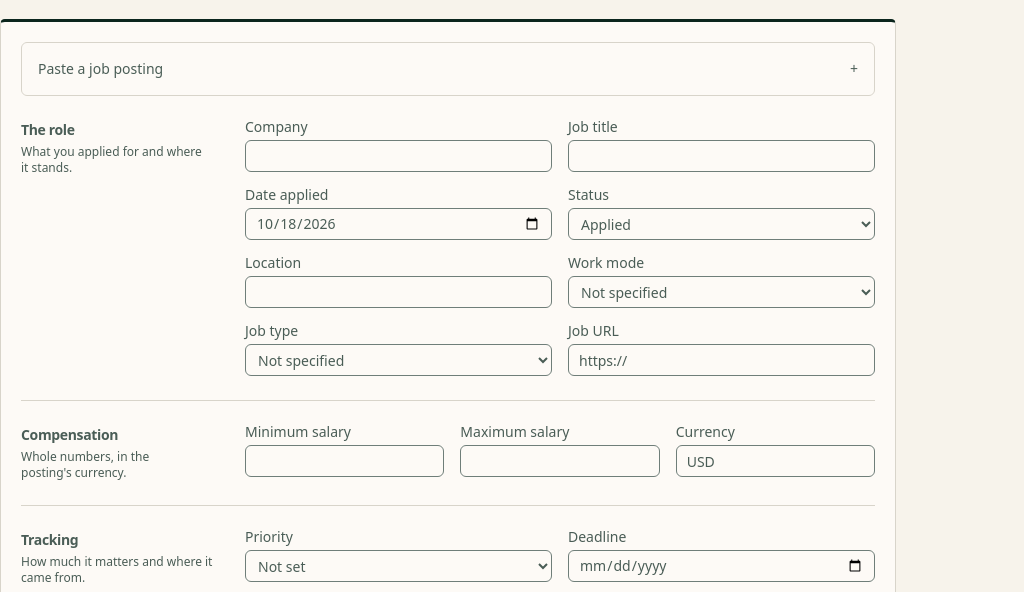
Test case: ApplicationFormPage input guardrails › asks for a currency when a salary is entered
Type "Acme" into the field labelled "Company" at (398, 156), box [245, 140, 552, 172]
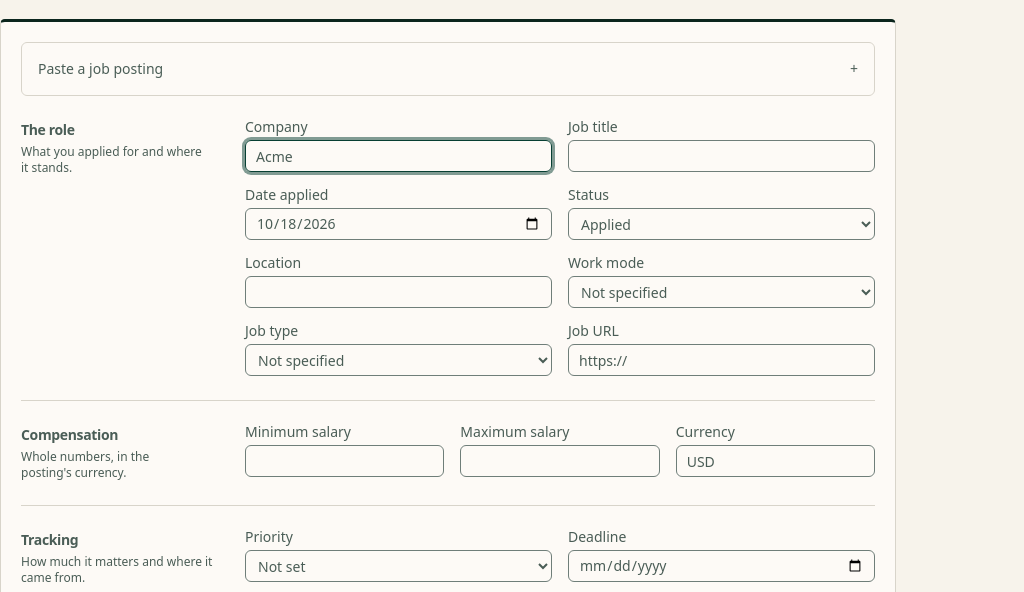
Type "Engineer" into the field labelled "Job title" at (722, 156), box [568, 140, 875, 172]
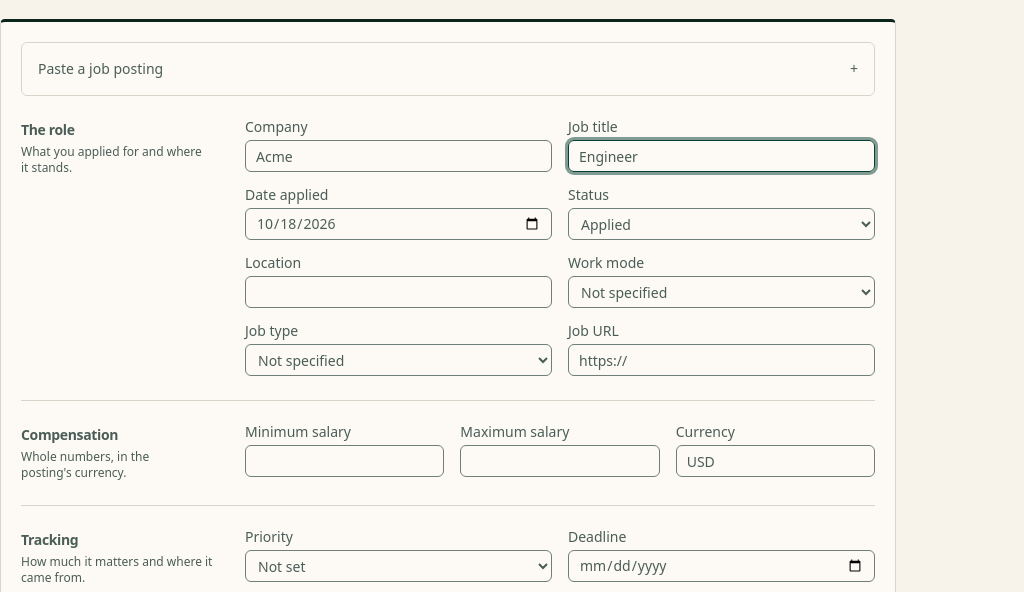
Type "2026-01-05" into the date field labelled "Date applied" at (398, 224), box [245, 208, 552, 240]
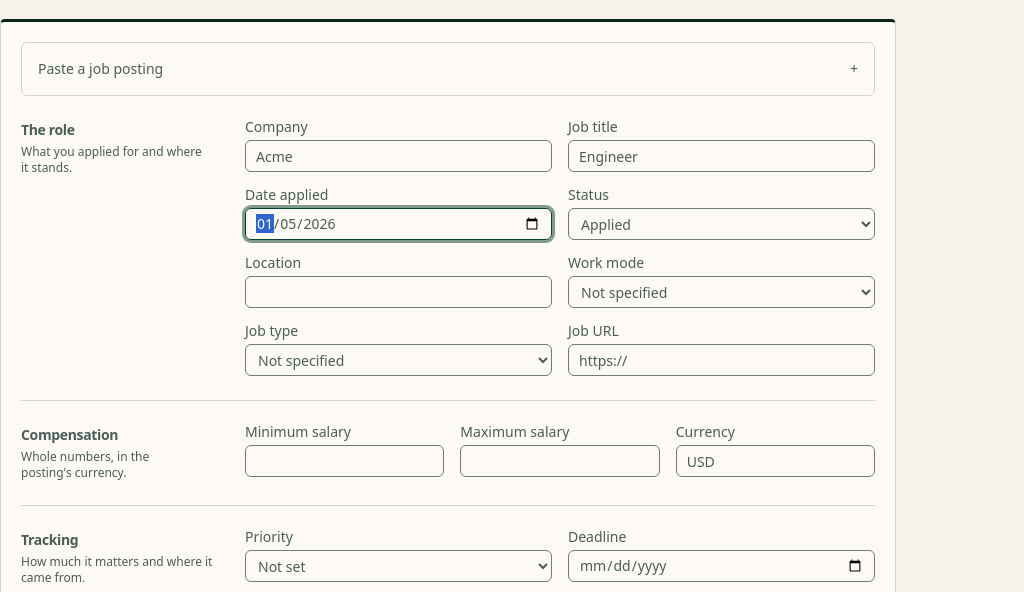
Type "90000" into the field labelled "Minimum salary" at (345, 461), box [245, 445, 444, 477]
(page scrolled)
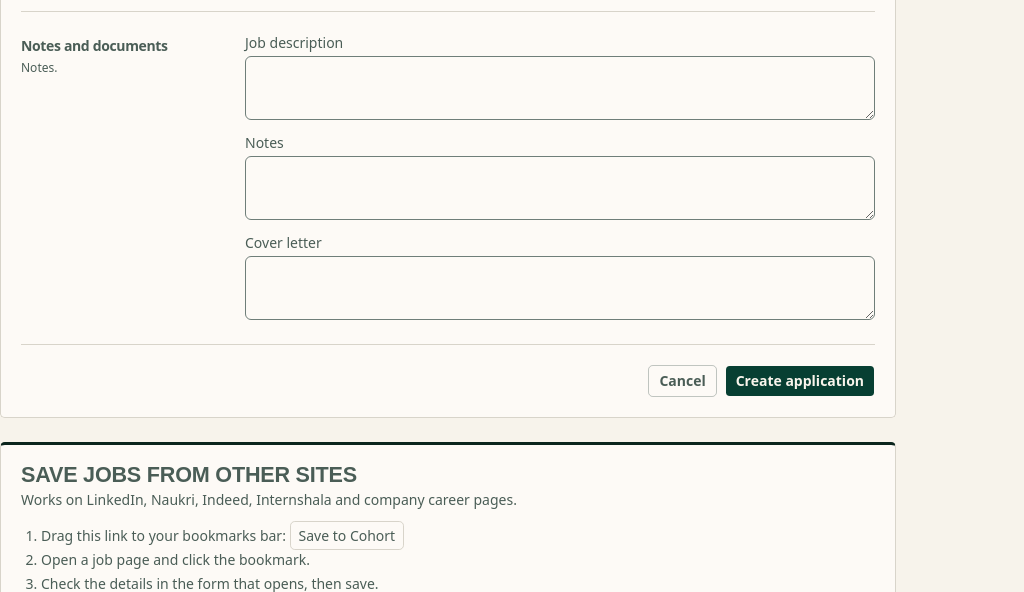
Click the button "Create application" at (800, 381), box [725, 365, 875, 397]
(page scrolled)
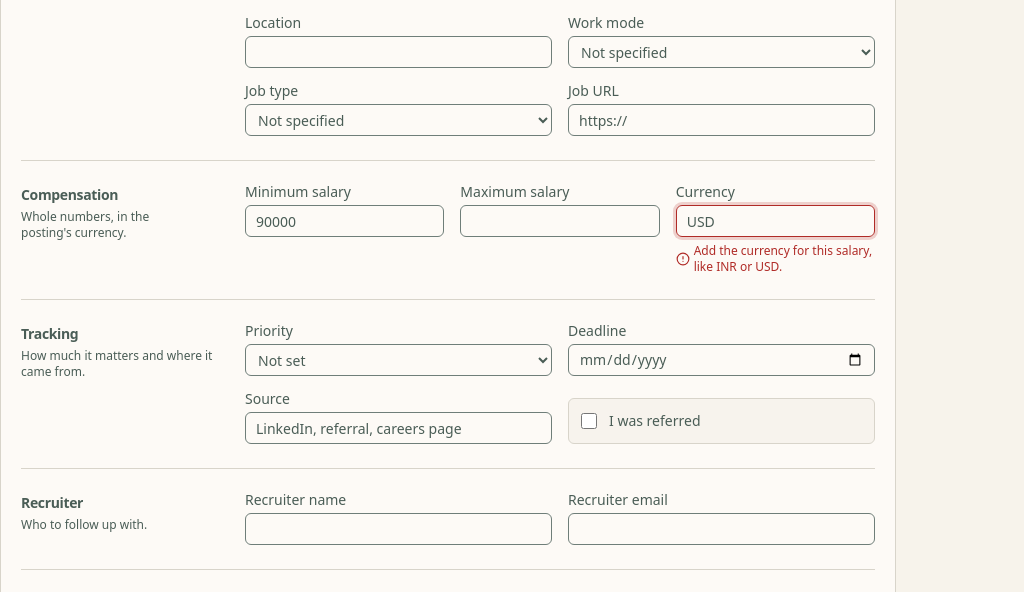
Check: the text "Add the currency for this salary, like INR or USD." is shown, box [676, 243, 875, 275]
